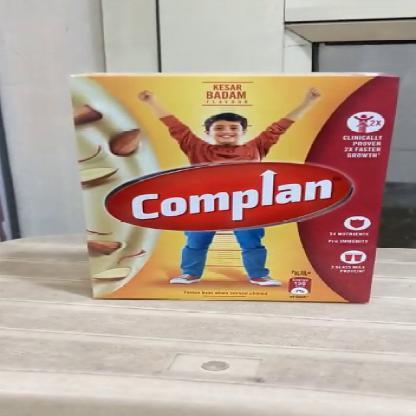Complan Kesar Badam: (50, 69, 413, 308)
